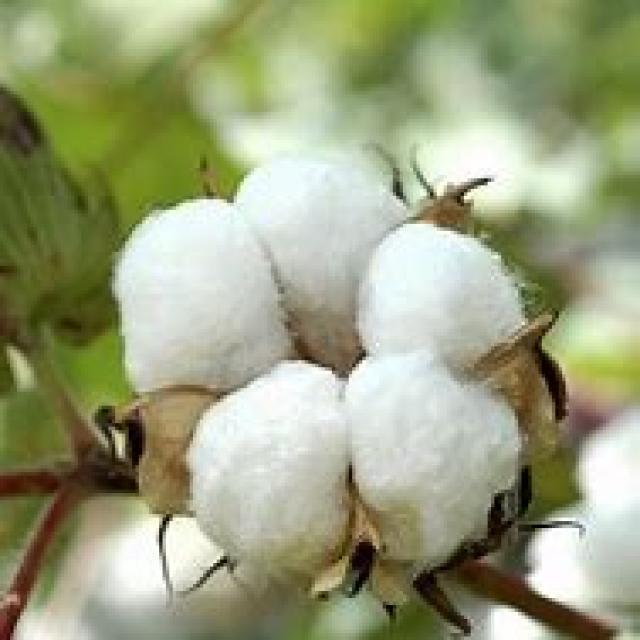Matured Cotton Boll: (104, 144, 566, 588)
